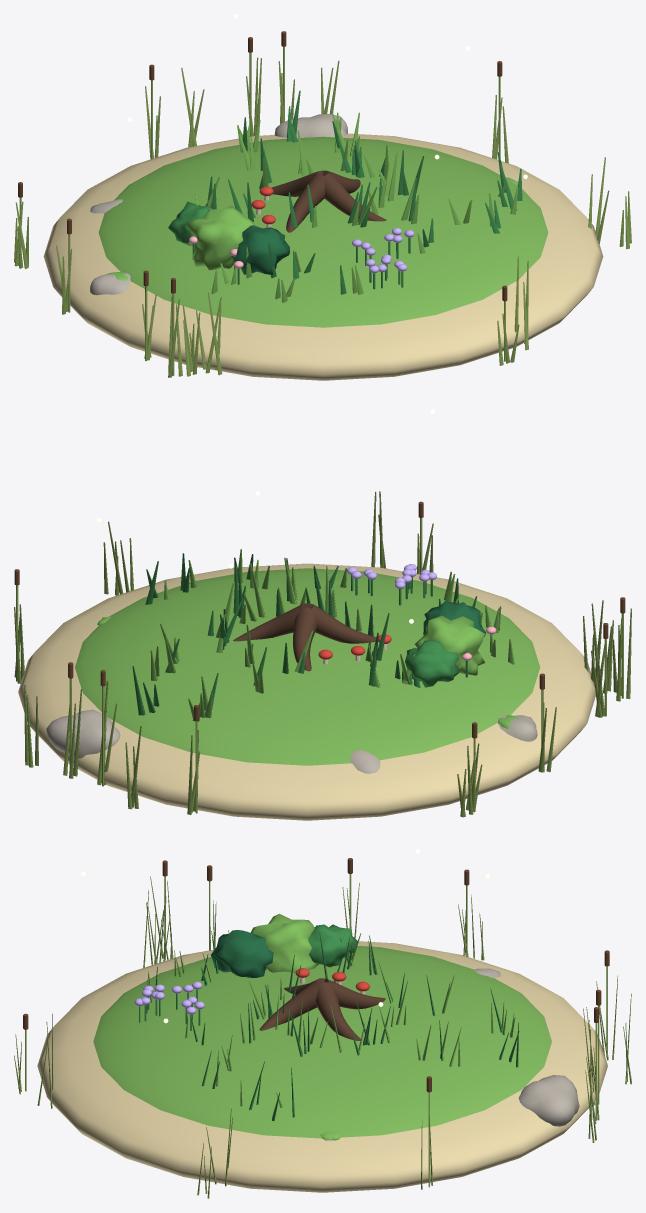
Rendered from islet_06.glb.
The picture shows the model from 3 angles, top to bottom: view 1: azimuth 30°, elevation 25°; view 2: azimuth 150°, elevation 25°; view 3: azimuth 270°, elevation 25°; orthographic projection. The views are drawn at different scales.
Parts seen in each view (by area): view 1: islet_grass.006, islet_sand.006, bush.019, bush.020, rock.039, root.026, root.027, bush.018, rock.040, root.025; view 2: islet_grass.006, islet_sand.006, bush.019, rock.039, bush.018, root.026, root.025, root.024, bush.020, rock.040; view 3: islet_grass.006, islet_sand.006, bush.019, bush.020, rock.039, bush.018, root.024, root.027, root.025.
Part boxes in pixels (x1,y1,x2,y2): islet_grass.006: (98,136,548,327); islet_sand.006: (43,133,603,380); bush.019: (186,205,256,270); bush.020: (232,225,289,274); rock.039: (274,114,347,137); root.026: (286,173,326,232); root.027: (323,173,386,221); bush.018: (168,201,211,246); rock.040: (90,273,130,295); root.025: (271,170,322,196); islet_grass.006: (75,568,540,765); islet_sand.006: (18,563,595,820); bush.019: (414,615,485,675); rock.039: (46,709,120,758); bush.018: (405,640,460,687); root.026: (311,604,376,643); root.025: (293,607,316,671); root.024: (233,604,304,641); bush.020: (423,600,486,636); rock.040: (497,715,537,741); islet_grass.006: (93,946,551,1138); islet_sand.006: (37,941,607,1192); bush.019: (250,913,318,972); bush.020: (211,930,273,977); rock.039: (518,1075,579,1126); bush.018: (308,924,357,967); root.024: (316,982,360,1040); root.027: (259,980,321,1030); root.025: (324,978,385,1009).
Size of the model in its own units: 7.47 by 3.25 by 7.8.
